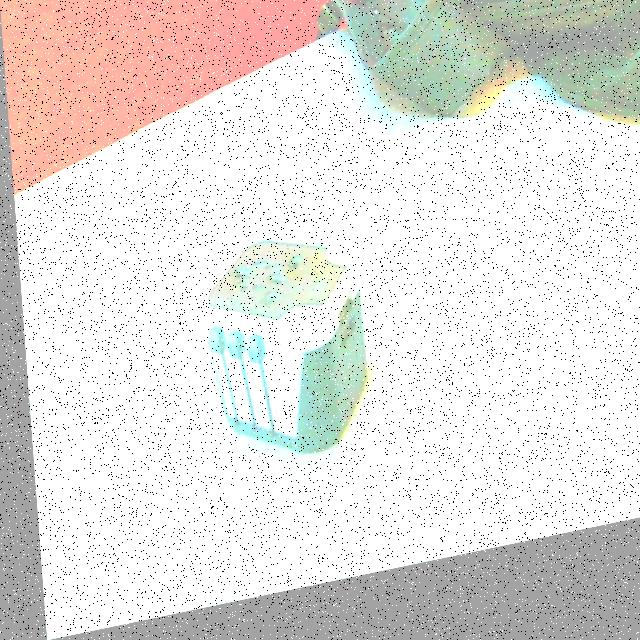adapter: (192, 232, 365, 481)
